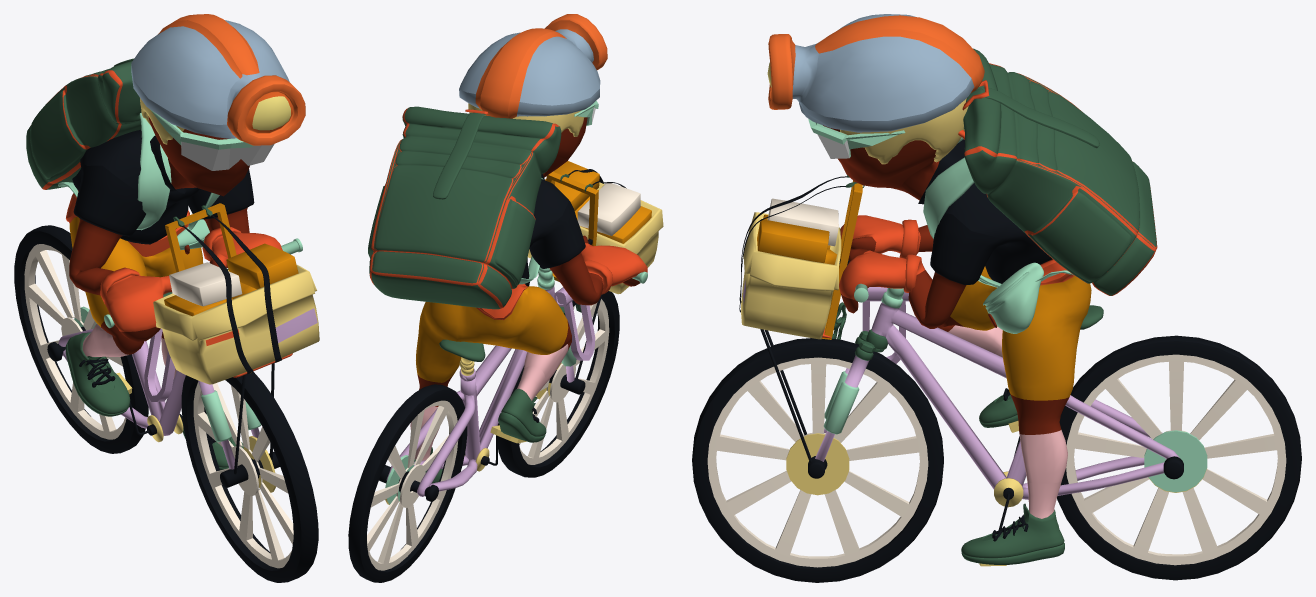
Rendered from cyclist.glb.
3 views of the same model, side by side, from view 1: azimuth 30°, elevation 25°; view 2: azimuth 150°, elevation 25°; view 3: azimuth 270°, elevation 25° (orthographic). The views are drawn at different scales.
Visible parts, largest first — view 1: GEO_Jo_body, GEO_bike.main, GEO_Jo_Helmet, GEO_wheel.front, GEO_Jo_Backpack, GEO_wheel.back, GEO_Jo_Glasses, GEO_Jo_lock, GEO_Jo_bagy; view 2: GEO_Jo_Backpack, GEO_Jo_body, GEO_bike.main, GEO_wheel.back, GEO_Jo_Helmet, GEO_wheel.front, GEO_Jo_lock; view 3: GEO_Jo_body, GEO_Jo_Backpack, GEO_bike.main, GEO_wheel.front, GEO_wheel.back, GEO_Jo_Helmet, GEO_Jo_bagy, GEO_Jo_Glasses.
Part boxes in pixels (left/top/right/bottom): GEO_Jo_body: left=65, top=98, right=282, bottom=470; GEO_bike.main: left=47, top=203, right=319, bottom=487; GEO_Jo_Helmet: left=131, top=14, right=305, bottom=145; GEO_wheel.front: left=181, top=371, right=318, bottom=582; GEO_Jo_Backpack: left=26, top=58, right=219, bottom=230; GEO_wheel.back: left=14, top=225, right=148, bottom=453; GEO_Jo_Glasses: left=150, top=109, right=274, bottom=170; GEO_Jo_lock: left=144, top=328, right=175, bottom=401; GEO_Jo_bagy: left=177, top=219, right=209, bottom=254; GEO_Jo_Backpack: left=368, top=106, right=561, bottom=309; GEO_Jo_body: left=410, top=103, right=647, bottom=483; GEO_bike.main: left=379, top=161, right=663, bottom=501; GEO_wheel.back: left=348, top=384, right=467, bottom=582; GEO_Jo_Helmet: left=459, top=14, right=607, bottom=118; GEO_wheel.front: left=498, top=291, right=619, bottom=477; GEO_Jo_lock: left=554, top=287, right=595, bottom=360; GEO_Jo_body: left=823, top=98, right=1091, bottom=564; GEO_Jo_Backpack: left=923, top=48, right=1157, bottom=295; GEO_bike.main: left=739, top=175, right=1183, bottom=507; GEO_wheel.front: left=692, top=338, right=943, bottom=582; GEO_wheel.back: left=1057, top=335, right=1301, bottom=580; GEO_Jo_Helmet: left=767, top=14, right=984, bottom=132; GEO_Jo_bagy: left=983, top=262, right=1043, bottom=333; GEO_Jo_Glasses: left=808, top=119, right=905, bottom=158.
Size of the model in its own units: 0.7766 by 1.78 by 1.78.
Materials: 3 (2 with a texture image).
